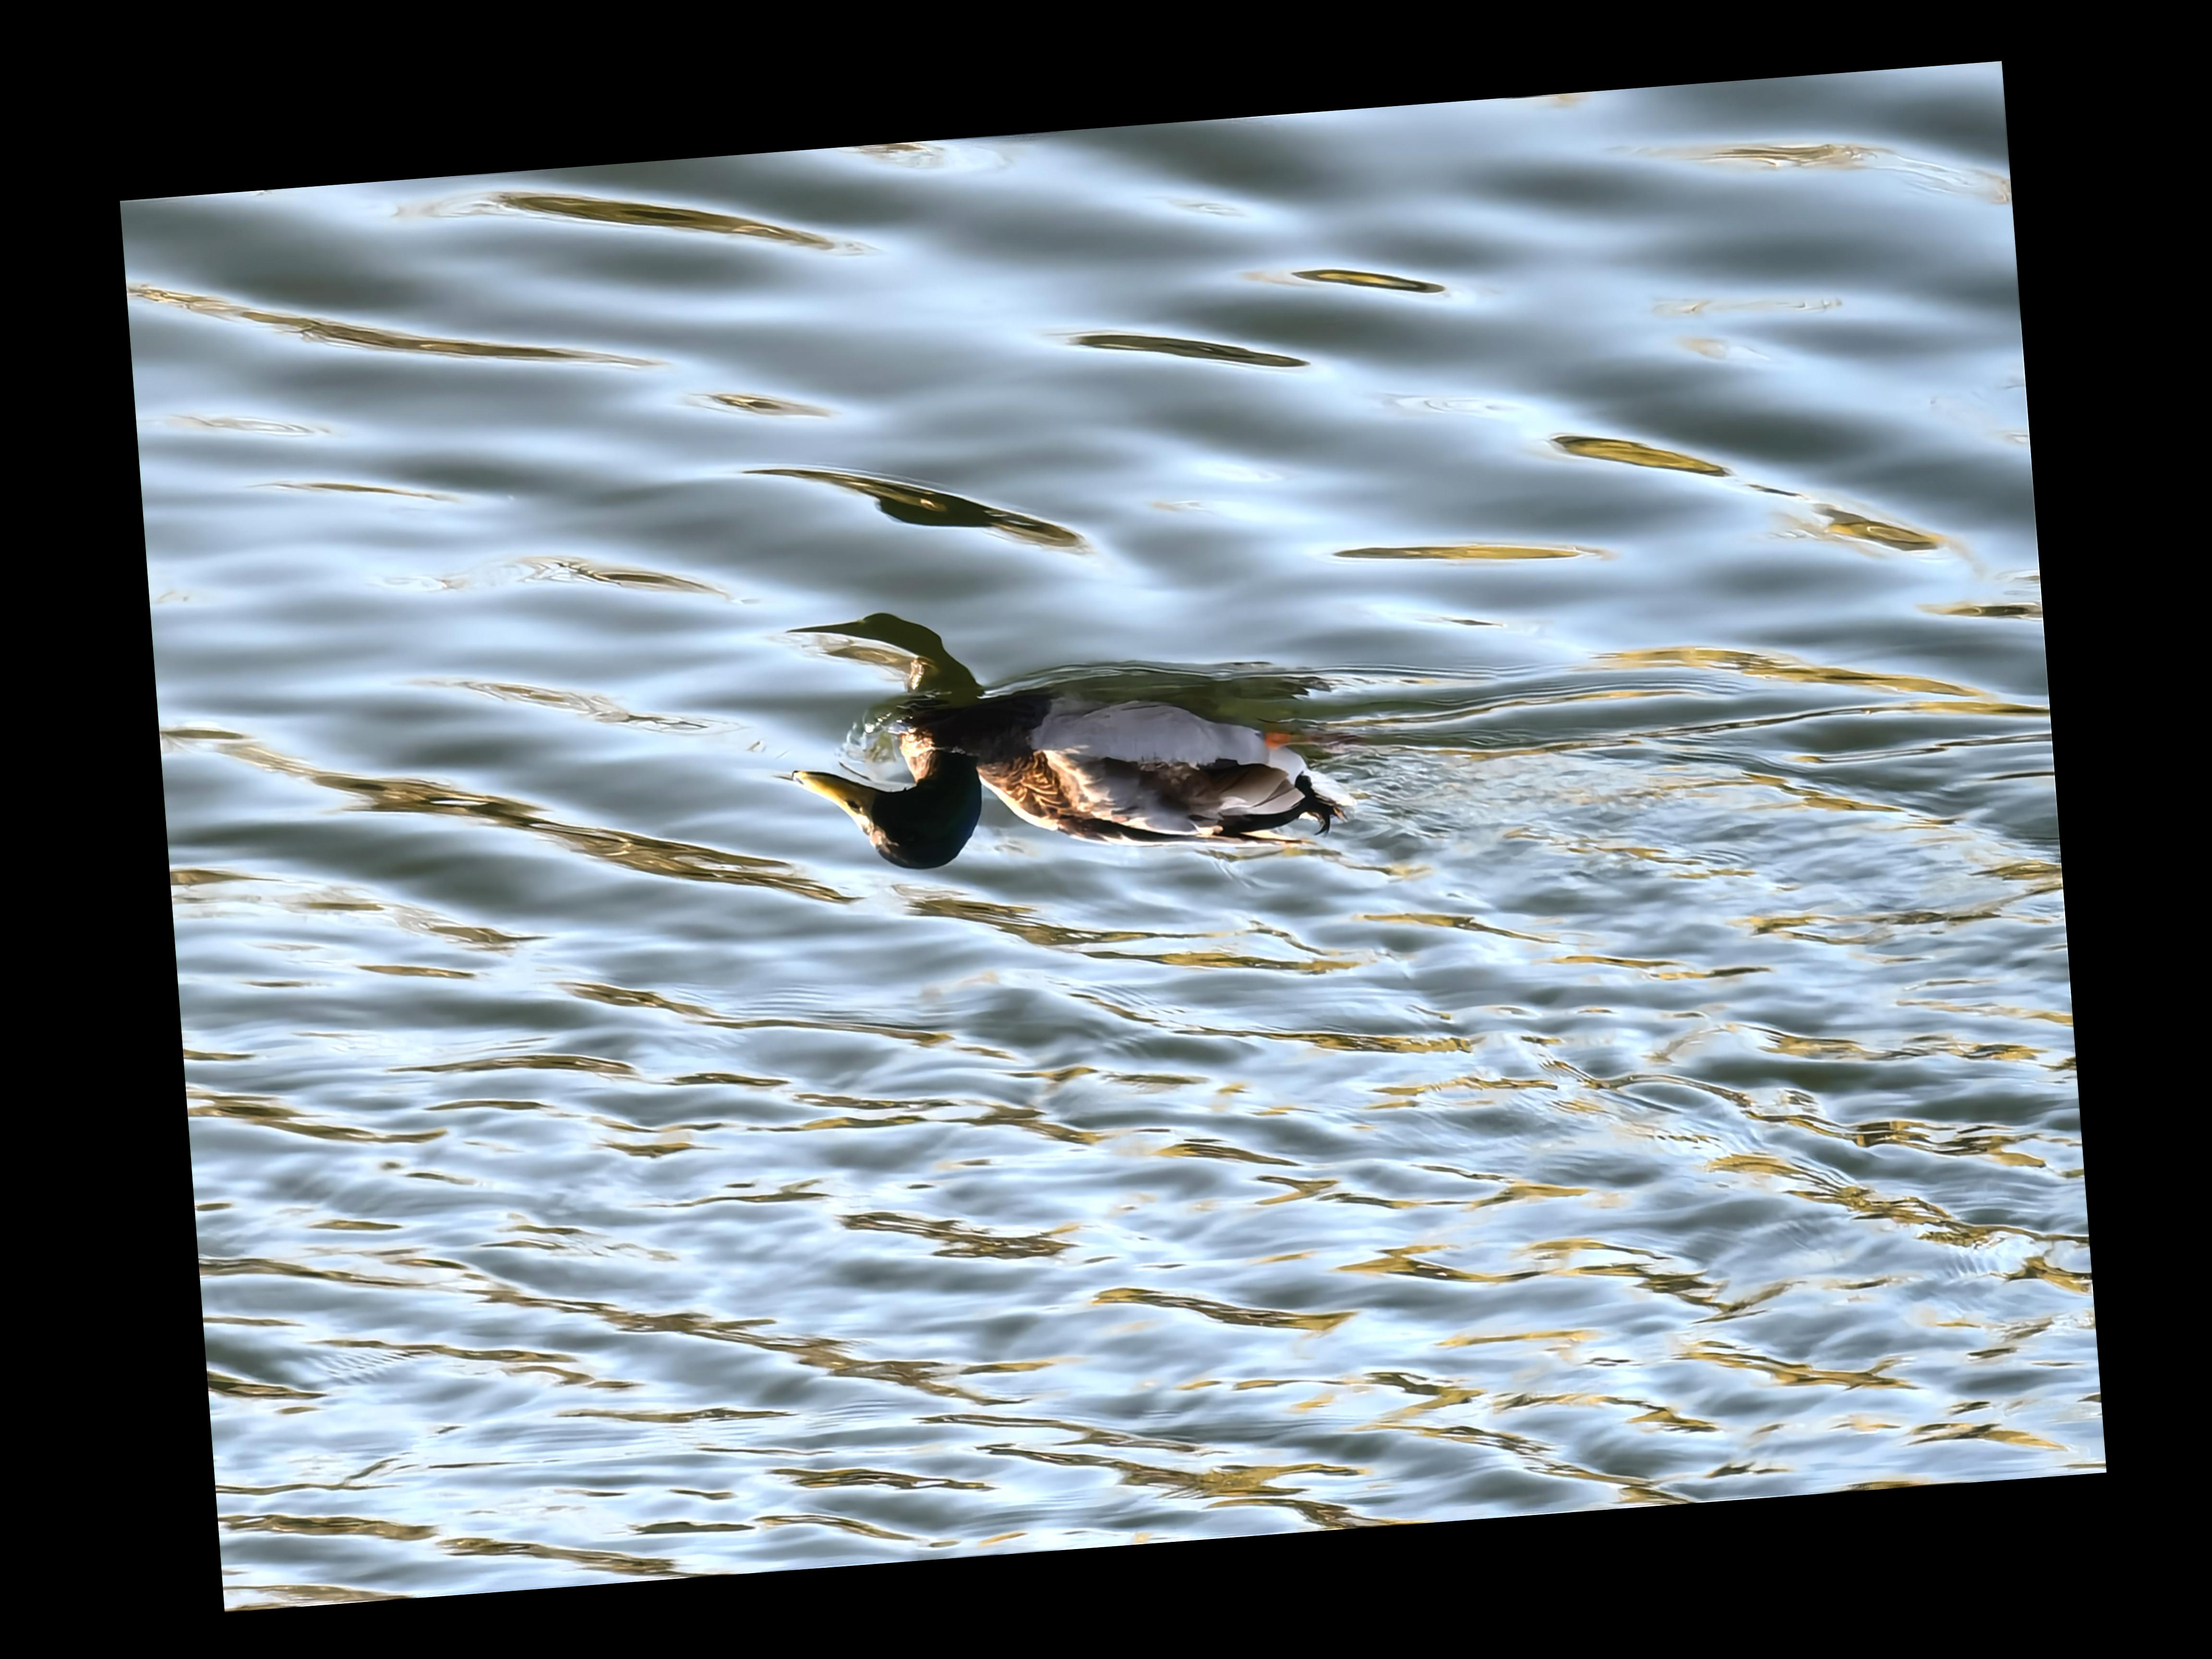duck: (779, 641, 1416, 917)
